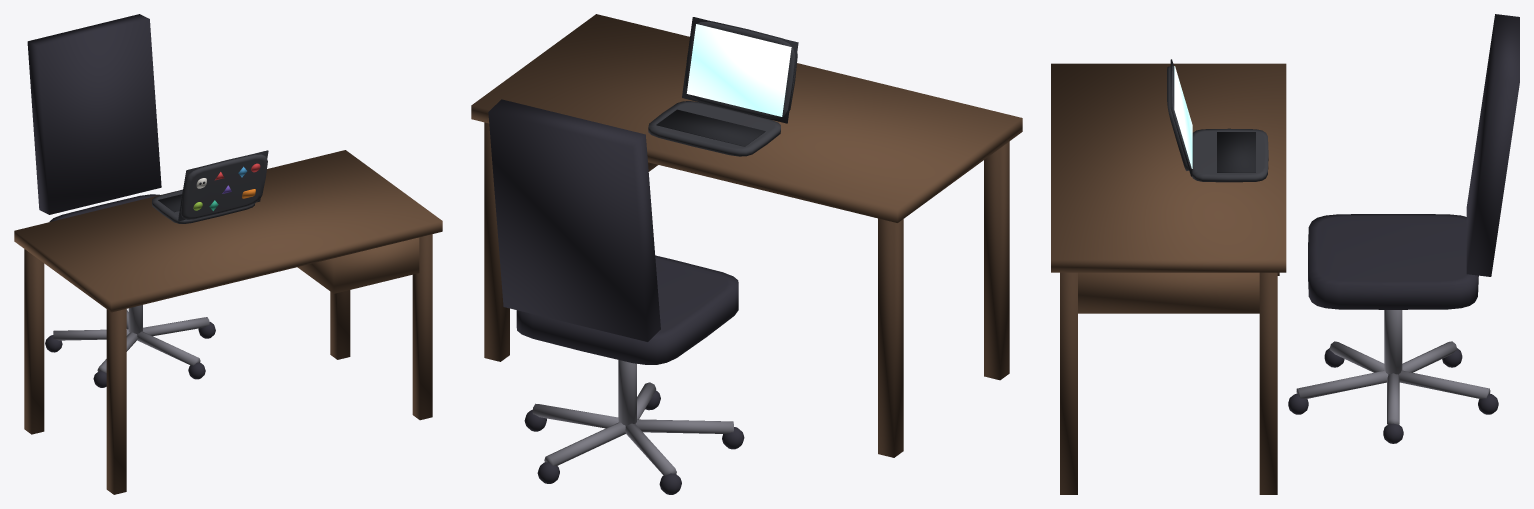
Rendered from desk.glb.
3 renders of one model, left to right at view 1: azimuth 30°, elevation 25°; view 2: azimuth 150°, elevation 25°; view 3: azimuth 270°, elevation 25°, orthographic. The views are drawn at different scales.
Parts seen in each view (by area): view 1: Desk; view 2: Desk; view 3: Desk.
Boxes of the visible parts, x1,y1,x2,y2 form: Desk: (14,14,442,494); Desk: (471,14,1022,494); Desk: (1051,14,1519,494).
Bounding box in the file's own units: 1.3 × 1.09 × 1.31.
